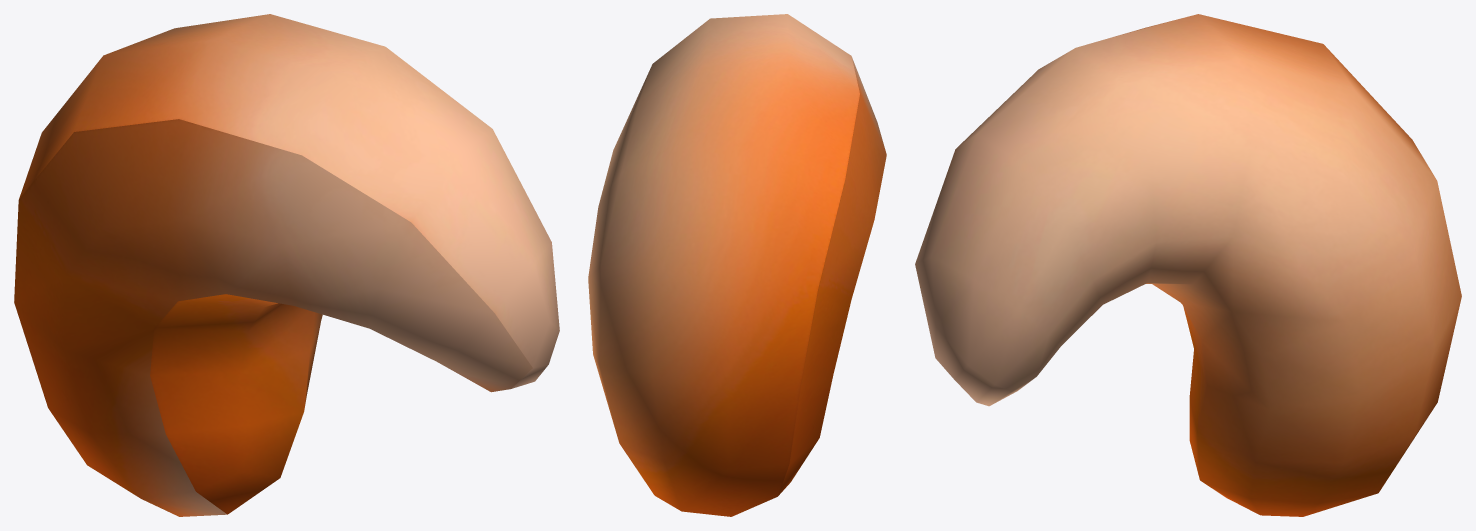
Rendered from TailDog.obj.
3 views of the same model, side by side, from view 1: azimuth 30°, elevation 25°; view 2: azimuth 150°, elevation 25°; view 3: azimuth 270°, elevation 25° (orthographic). The views are drawn at different scales.
Parts seen in each view (by area): view 1: Dog_Tail; view 2: Dog_Tail; view 3: Dog_Tail.
Part boxes in pixels (left/top/right/bottom): Dog_Tail: left=14, top=14, right=559, bottom=516; Dog_Tail: left=588, top=14, right=886, bottom=516; Dog_Tail: left=915, top=14, right=1461, bottom=516.
Bounding box in the file's own units: 0.1527 × 0.2111 × 0.2152.
1 material, 1 textured.
